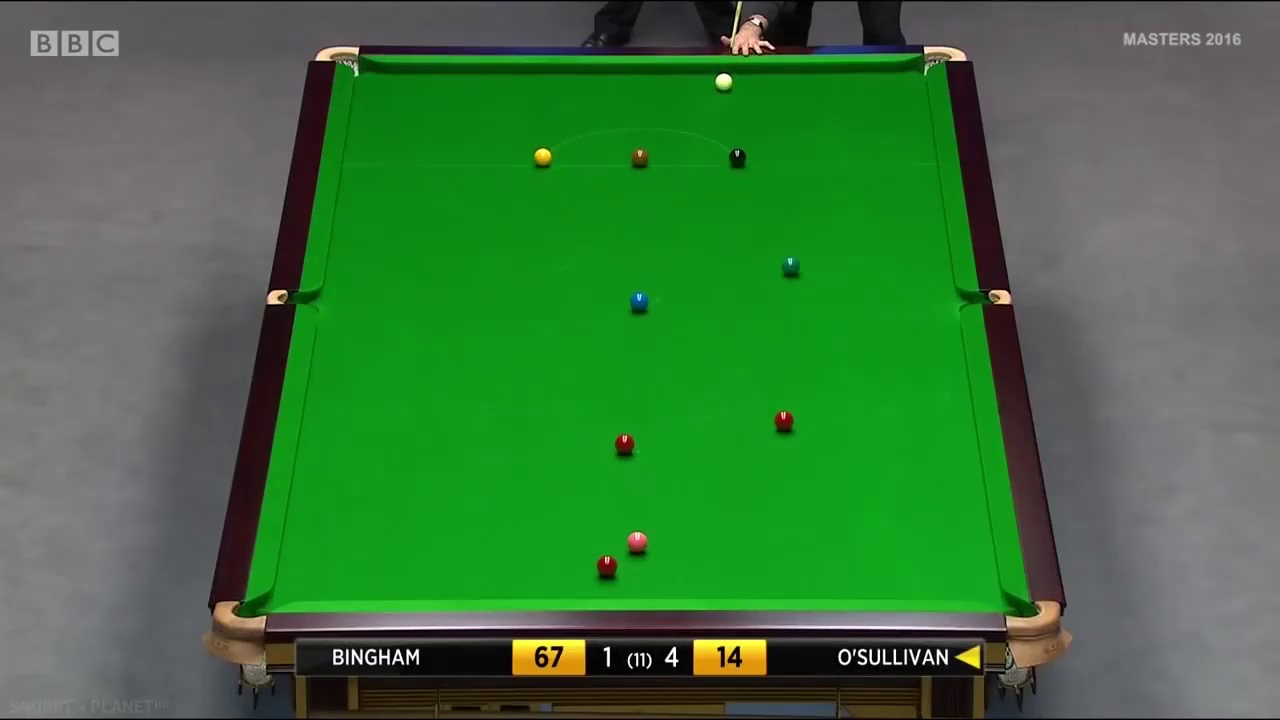ball: (593, 555, 617, 578), (626, 530, 650, 552), (629, 148, 651, 169), (774, 410, 794, 432), (532, 147, 552, 167), (780, 255, 800, 275), (630, 293, 651, 312), (614, 433, 633, 454), (728, 148, 746, 166), (714, 73, 732, 88)
